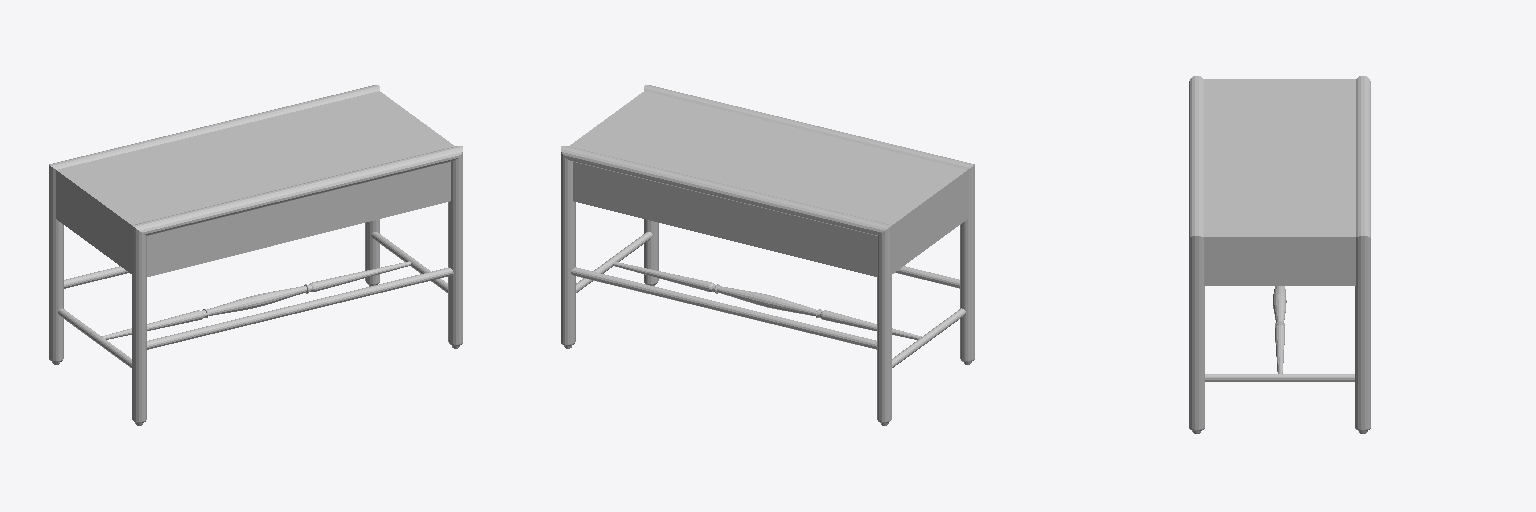
Rendered from table.obj.
The picture shows the model from 3 angles: view 1: azimuth 30°, elevation 25°; view 2: azimuth 150°, elevation 25°; view 3: azimuth 270°, elevation 25°; orthographic projection.
Visible parts, largest first — view 1: small_wooden_table_01_Cylinder.002; view 2: small_wooden_table_01_Cylinder.002; view 3: small_wooden_table_01_Cylinder.002.
Part boxes in pixels (x1,y1,x2,y2): small_wooden_table_01_Cylinder.002: (49,85,462,425); small_wooden_table_01_Cylinder.002: (561,85,974,425); small_wooden_table_01_Cylinder.002: (1189,76,1370,433).
Size of the model in its own units: 0.9162 by 0.5331 by 0.44.